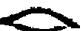Mouth: (2, 7, 80, 31)
